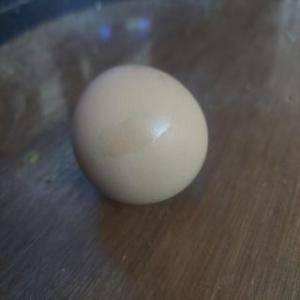egg: (67, 62, 211, 210)
